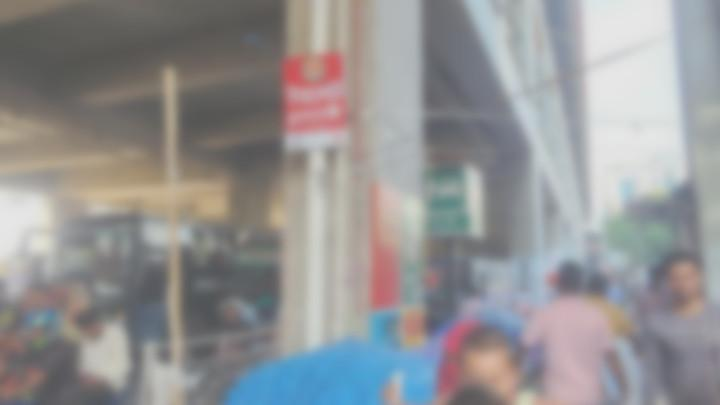Metro Dorp Up Pick up: (425, 161, 483, 242)
